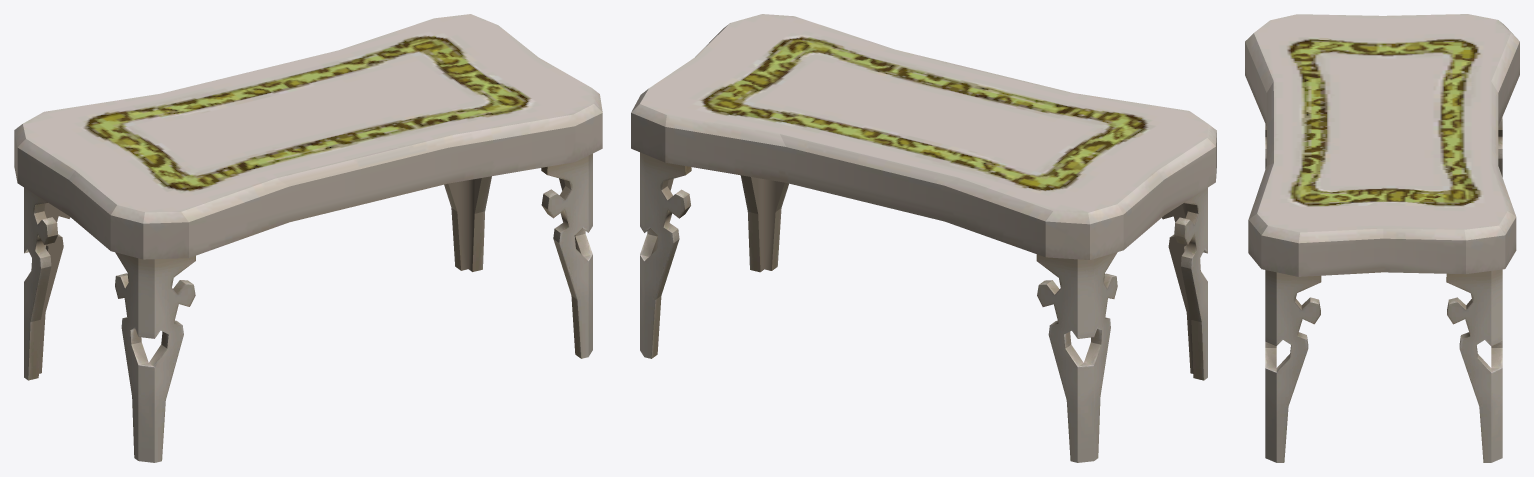
Rendered from furni_0200080_01.FBX.
3 renders of one model, left to right at view 1: azimuth 30°, elevation 25°; view 2: azimuth 150°, elevation 25°; view 3: azimuth 270°, elevation 25°, orthographic. The views are drawn at different scales.
Parts seen in each view (by area): view 1: furni_0200080_01; view 2: furni_0200080_01; view 3: furni_0200080_01.
Part boxes in pixels (box(x1,y1,x2,y2)): furni_0200080_01: box(14, 14, 602, 462); furni_0200080_01: box(631, 14, 1216, 462); furni_0200080_01: box(1245, 14, 1519, 462).
Size of the model in its own units: 165 by 80.26 by 84.88.
Materials: 1 (1 with a texture image).
